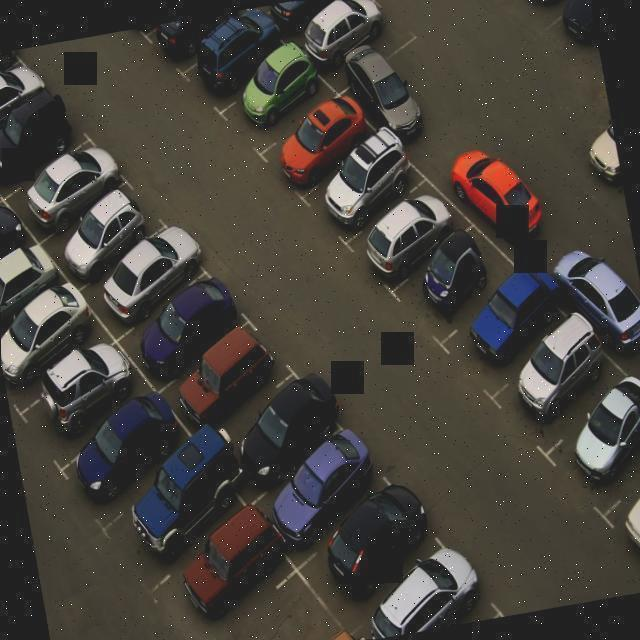space-empty: (203, 570, 324, 640)
space-occupied: (155, 499, 290, 640), (299, 501, 441, 635), (502, 319, 618, 454), (452, 268, 569, 401), (99, 457, 241, 560), (163, 323, 285, 438), (226, 380, 347, 490), (266, 432, 380, 545), (124, 282, 240, 389), (16, 342, 138, 442), (546, 375, 640, 504), (263, 88, 372, 199), (66, 405, 189, 503), (309, 127, 409, 244), (90, 223, 201, 327), (350, 185, 454, 291), (404, 228, 504, 335), (11, 142, 130, 224), (52, 184, 164, 271), (0, 285, 107, 376), (225, 52, 325, 148), (190, 15, 288, 110), (363, 564, 487, 639), (307, 0, 408, 82), (0, 96, 88, 181), (158, 9, 247, 70), (0, 53, 58, 138), (0, 241, 61, 317), (601, 465, 640, 568), (270, 0, 361, 35), (0, 200, 25, 288), (0, 50, 13, 89)
